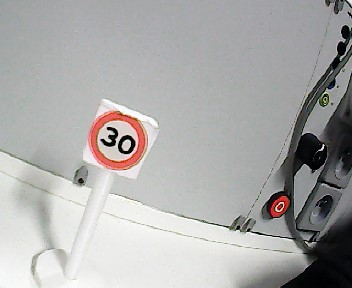30-bord: (90, 109, 150, 169)
